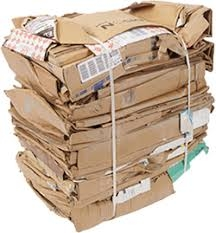paper: (2, 1, 215, 81), (13, 150, 214, 233), (4, 113, 216, 155), (6, 79, 215, 121)
